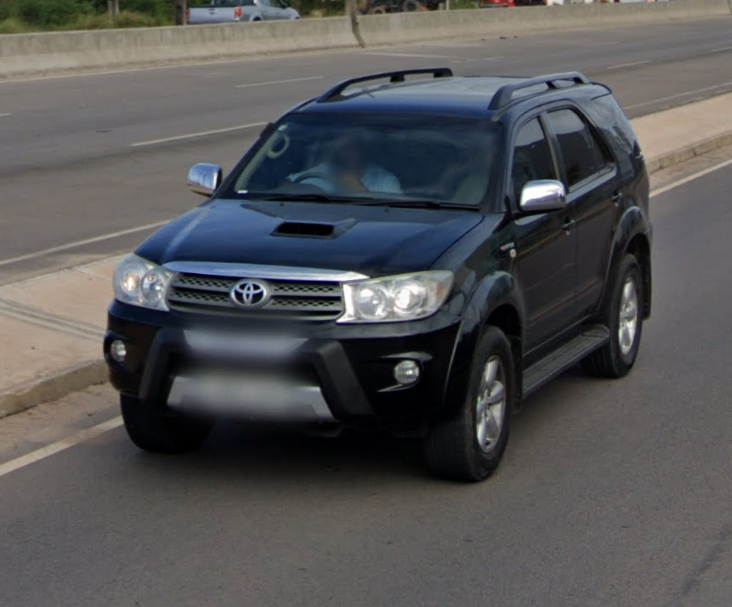car: (97, 61, 654, 486)
